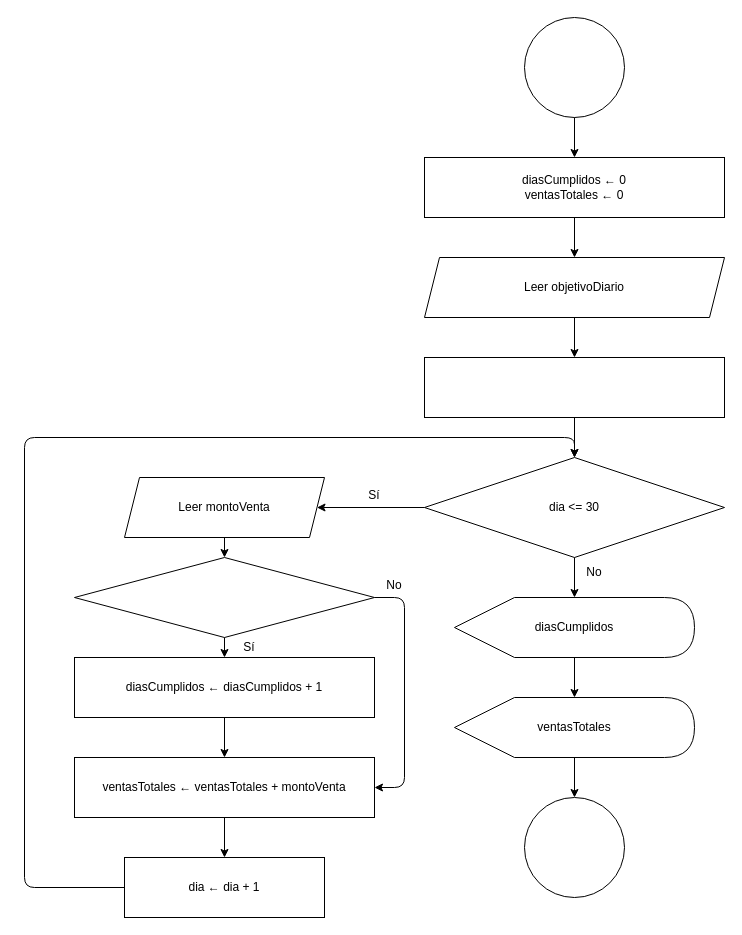
The diagram is 742 pixels wide and 935 high, and some of its shapes have lost their labels. The centre of each missing label's shape, as x and y in pixels:
"dia ← 1" belongs at pixel 574 387.
"Fin" belongs at pixel 574 847.
"Inicio" belongs at pixel 574 67.
"montoVenta >= objetivoDiario" belongs at pixel 224 597.
